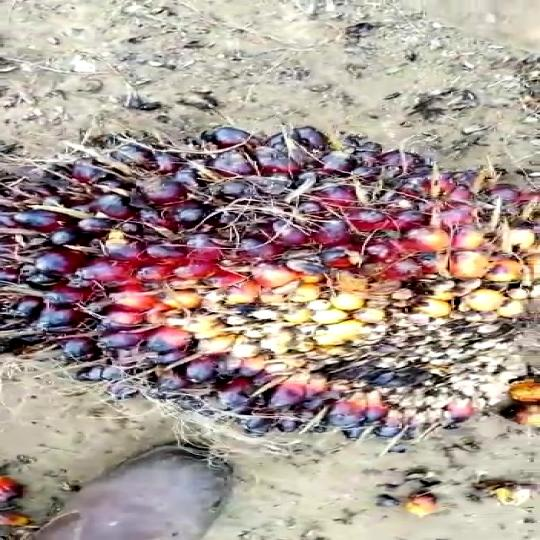kurang masak: (0, 94, 540, 452)
